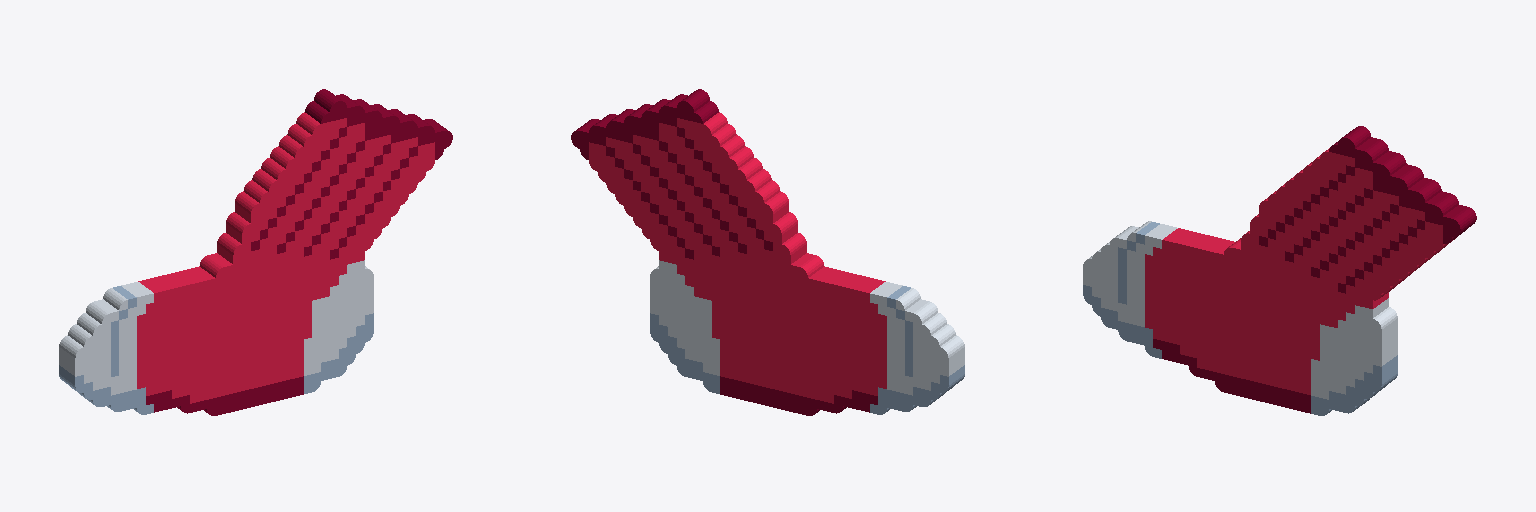
The model's file is Sock.obj.
3 renders of one model, left to right at view 1: azimuth 30°, elevation 25°; view 2: azimuth 150°, elevation 25°; view 3: azimuth 330°, elevation 25°, orthographic.
Size of the model in its own units: 43 by 31 by 3.2.